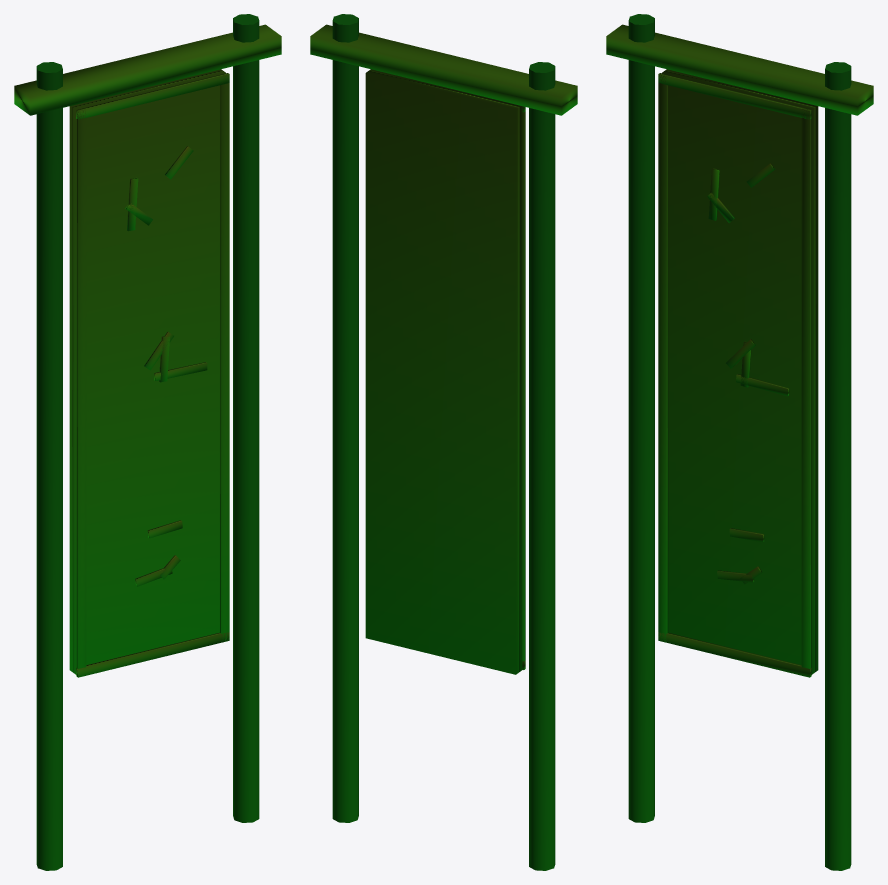
File: signboard_gilded.glb
The picture shows the model from 3 angles, left to right: view 1: azimuth 30°, elevation 25°; view 2: azimuth 150°, elevation 25°; view 3: azimuth 330°, elevation 25°; orthographic projection.
Visible parts, largest first — view 1: signboard_gilded; view 2: signboard_gilded; view 3: signboard_gilded.
Part boxes in pixels (<box>): signboard_gilded: <box>14,14,281,870</box>; signboard_gilded: <box>310,14,577,870</box>; signboard_gilded: <box>606,14,873,870</box>.
Size of what is drawn, in the model's own units: 1.48 by 4.5 by 0.1631.
